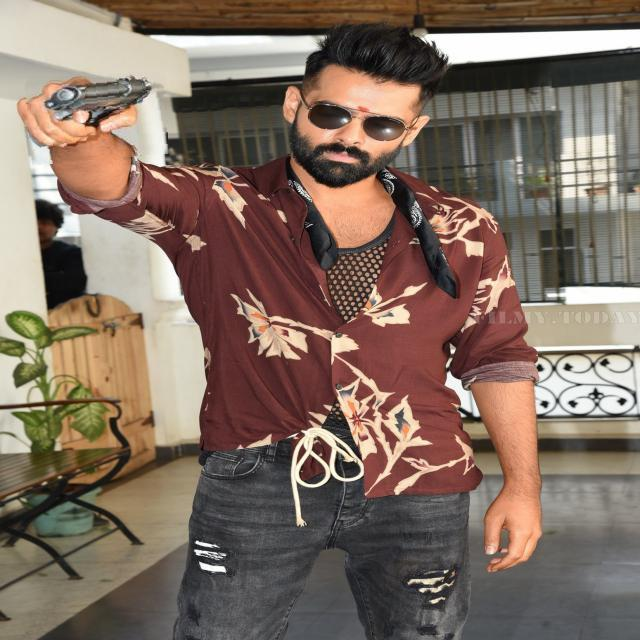handgun: (27, 74, 168, 162)
